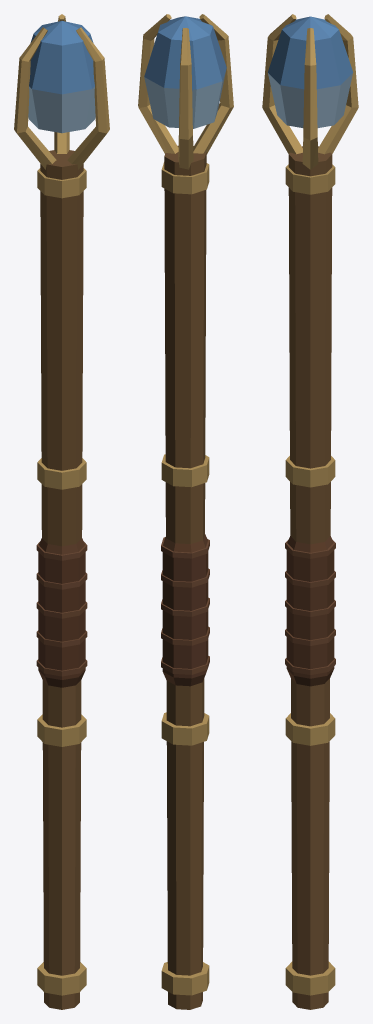
File: weapon_staff_oak.glb
3 renders of one model, left to right at view 1: azimuth 90°, elevation 25°; view 2: azimuth 150°, elevation 25°; view 3: azimuth 270°, elevation 25°, orthographic.
Visible parts, largest first — view 1: weapon_staff_oak; view 2: weapon_staff_oak; view 3: weapon_staff_oak.
Boxes of the visible parts, x1,y1,x2,y2 form: weapon_staff_oak: (14, 14, 109, 1009); weapon_staff_oak: (138, 14, 233, 1009); weapon_staff_oak: (262, 14, 358, 1009).
Bounding box in the file's own units: 0.2052 × 2.29 × 0.203.
